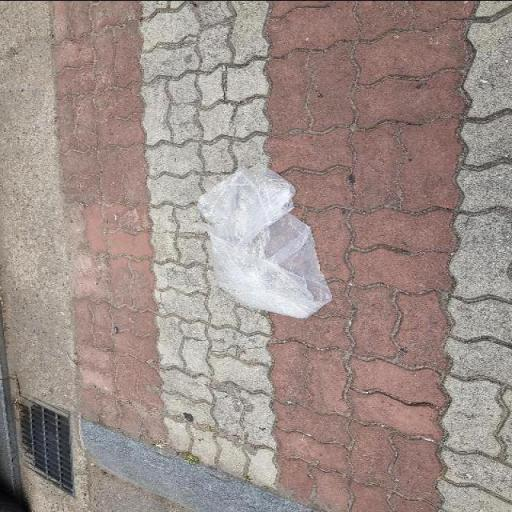plastic-bag: (194, 162, 330, 318)
